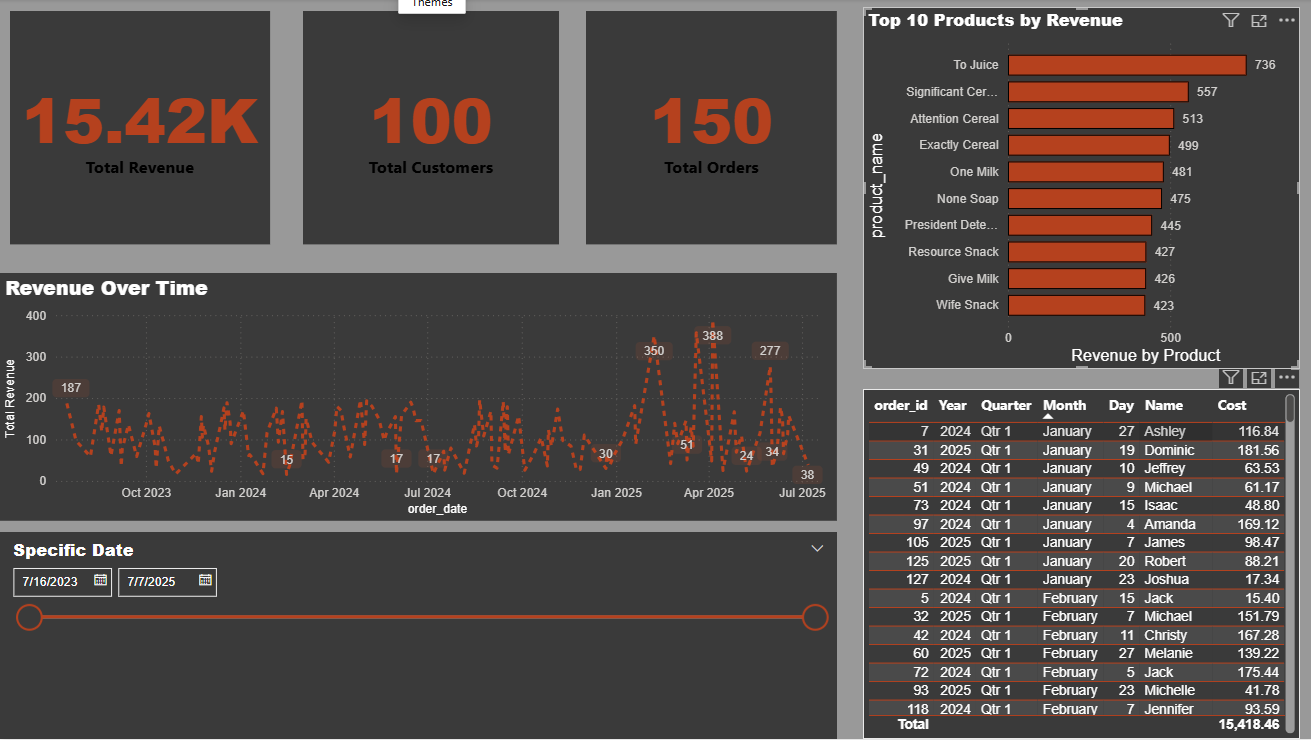

What the dashboard file says about the page in this screenshot:
{"tool":"powerbi","page":{"name":"Overview","canvas":[1280,720],"ordinal":0},"visuals":[{"type":"card","fields":{"Values":["heb_curbside order_revenue.Total Revenue"]},"box":[9.7,11.7,252.9,226.6],"z":0},{"type":"card","fields":{"Values":["heb_curbside order.Total Orders"]},"box":[570,11.7,244.1,226.6],"z":1000},{"type":"card","fields":{"Values":["heb_curbside customer.Total Customers"]},"box":[294.7,11.7,249,226.6],"z":2000},{"type":"lineChart","title":"Revenue Over Time","fields":{"Y":["heb_curbside order_revenue.Total Revenue"],"Category":["heb_curbside order.order_date"]},"box":[0,266.5,814.1,241.2],"z":3000},{"type":"clusteredBarChart","title":"Top 10 Products by Revenue","fields":{"Y":["heb_curbside order_product.Revenue by Product"],"Category":["heb_curbside product.product_name"]},"box":[839.4,7.8,425,352.1],"z":4000},{"type":"slicer","fields":{"Values":["heb_curbside order.order_date"]},"box":[0,518,814,202],"z":5000},{"type":"tableEx","fields":{"Values":["heb_curbside order.order_id","heb_curbside order.order_date.Variation.Date Hierarchy.Year","heb_curbside order.order_date.Variation.Date Hierarchy.Quarter","heb_curbside order.order_date.Variation.Date Hierarchy.Month","heb_curbside order.order_date.Variation.Date Hierarchy.Day","heb_curbside customer.first_name","heb_curbside order_revenue.Total Revenue"]},"box":[839.4,379.3,425,340.4],"z":6000}]}

Visuals, with their boxes in screenshot pixels (x1, y1, x2, y2):
card - heb_curbside order_revenue.Total Revenue: [x1=23, y1=15, x2=279, y2=244]
card - heb_curbside order.Total Orders: [x1=589, y1=15, x2=836, y2=244]
card - heb_curbside customer.Total Customers: [x1=311, y1=15, x2=563, y2=244]
"Revenue Over Time" lineChart: [x1=14, y1=273, x2=836, y2=516]
"Top 10 Products by Revenue" clusteredBarChart: [x1=862, y1=11, x2=1291, y2=367]
slicer - heb_curbside order.order_date: [x1=14, y1=527, x2=836, y2=731]
tableEx - heb_curbside order.order_id x heb_curbside order.order_date.Variation.Date Hierarchy.Year: [x1=862, y1=387, x2=1291, y2=730]
